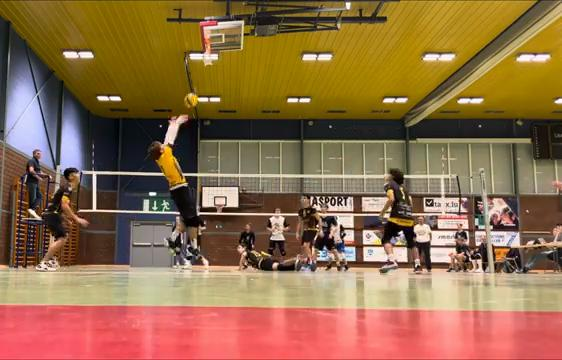Dig: (147, 108, 210, 265)
Player: (36, 168, 87, 270), (380, 168, 421, 272), (296, 195, 322, 268), (314, 204, 341, 270), (237, 245, 298, 270), (186, 217, 208, 269), (266, 208, 288, 256), (172, 233, 190, 268), (335, 224, 348, 270), (239, 223, 255, 249), (553, 181, 562, 192)
ball: (183, 94, 200, 110)
